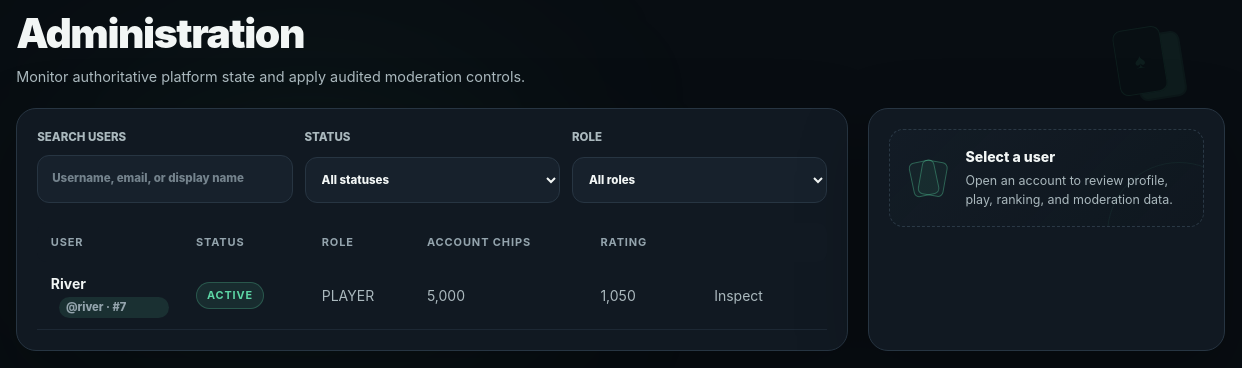
Test: AdminPage › shows user detail loading only after a user is selected
This screenshot has width=1242, height=368.
Expected: the heading "Select a user" is shown, [965, 148, 1055, 166]
Expected: the text "Loading user detail..." is not shown
Click the button "Inspect": (739, 295) [698, 273, 779, 317]
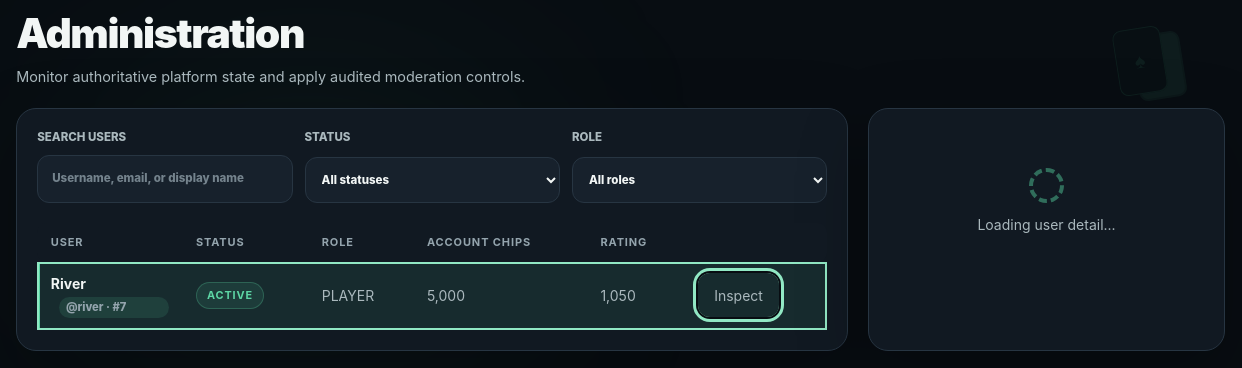
Expected: the heading "Select a user" is gone
Expected: the text "Loading user detail..." is shown, [977, 215, 1116, 235]
